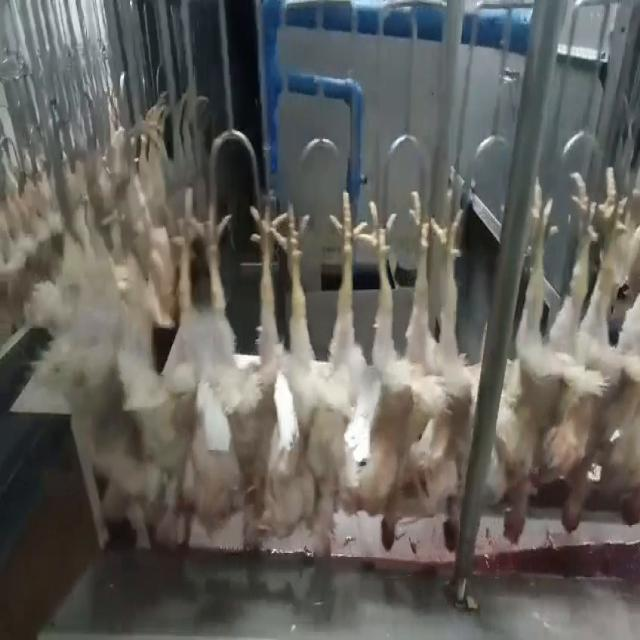chicken: (265, 183, 359, 558), (499, 172, 592, 551), (184, 194, 274, 536), (358, 200, 431, 551), (577, 162, 640, 556), (419, 200, 486, 556)
